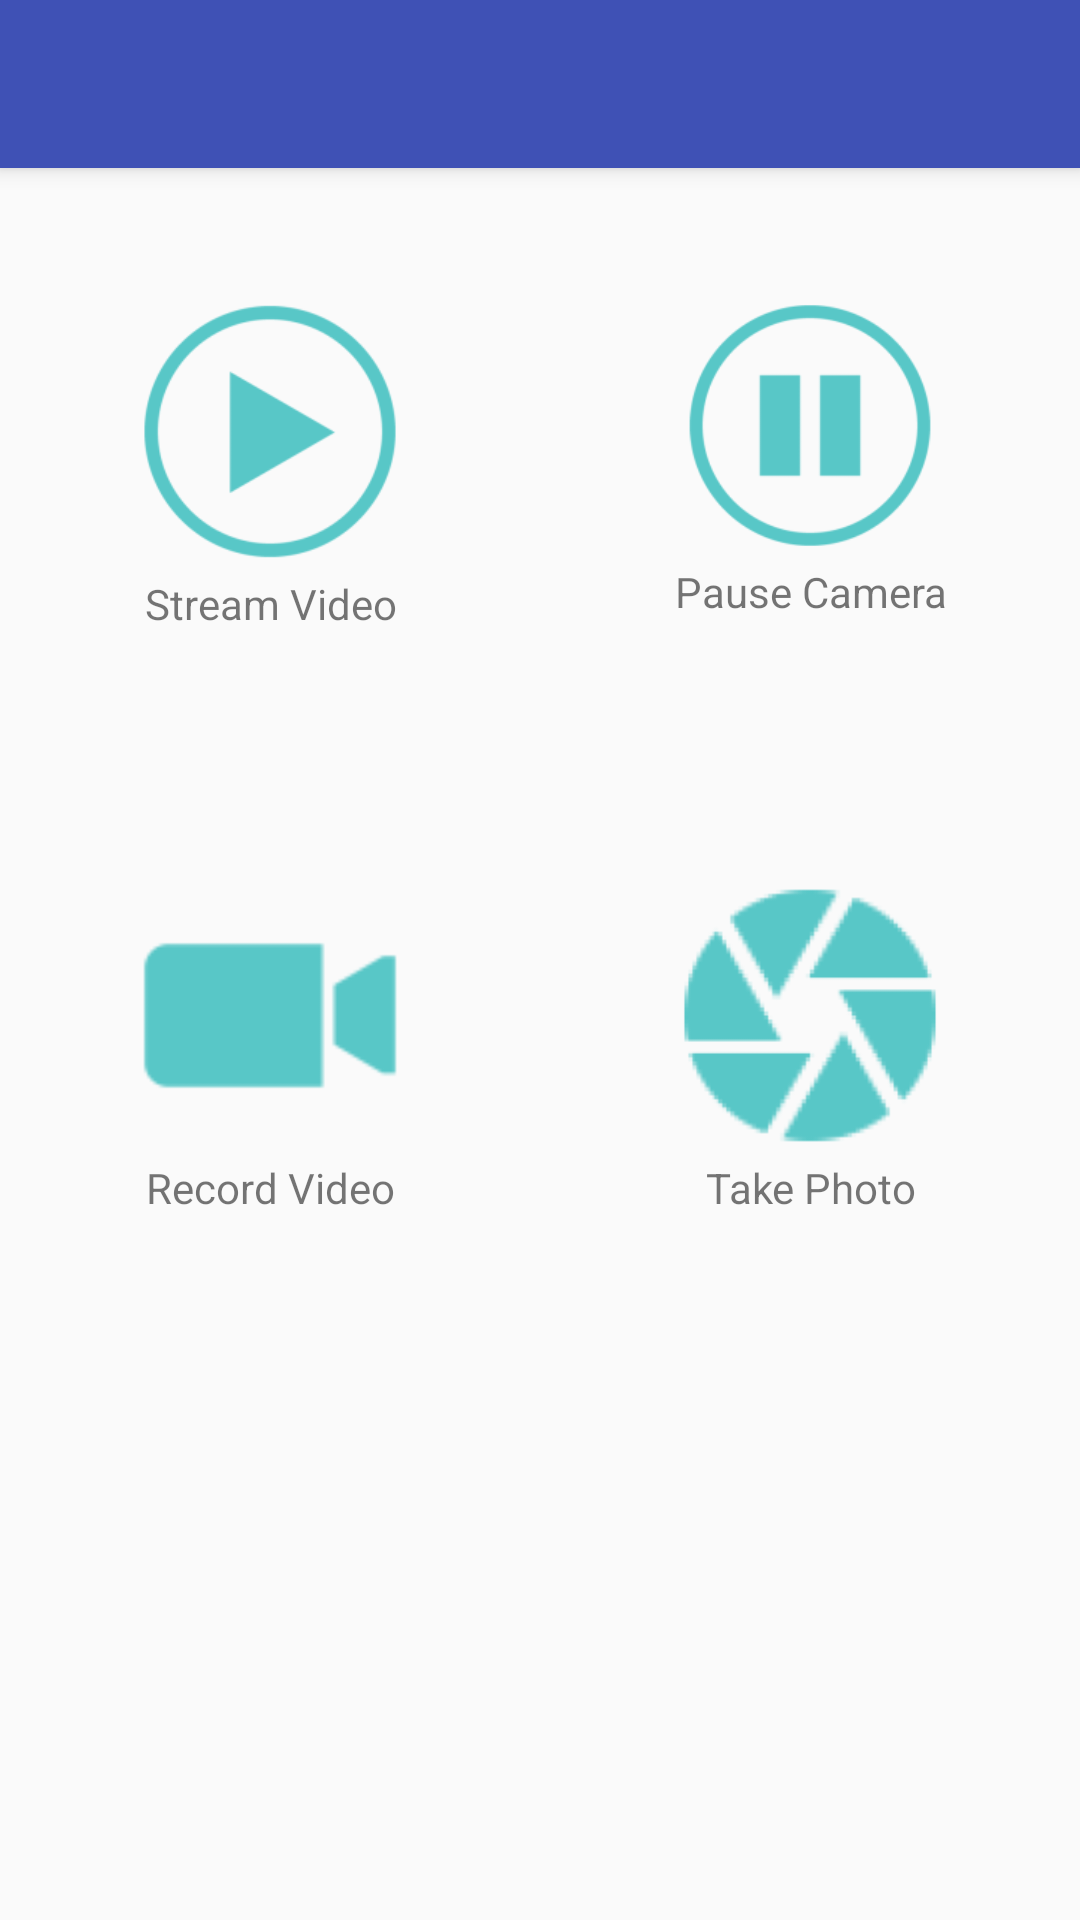

Screen size 1080*1920. Icon name, then its box in pixels as (x1, y1, x2, y2):
play: (144, 305, 396, 558)
